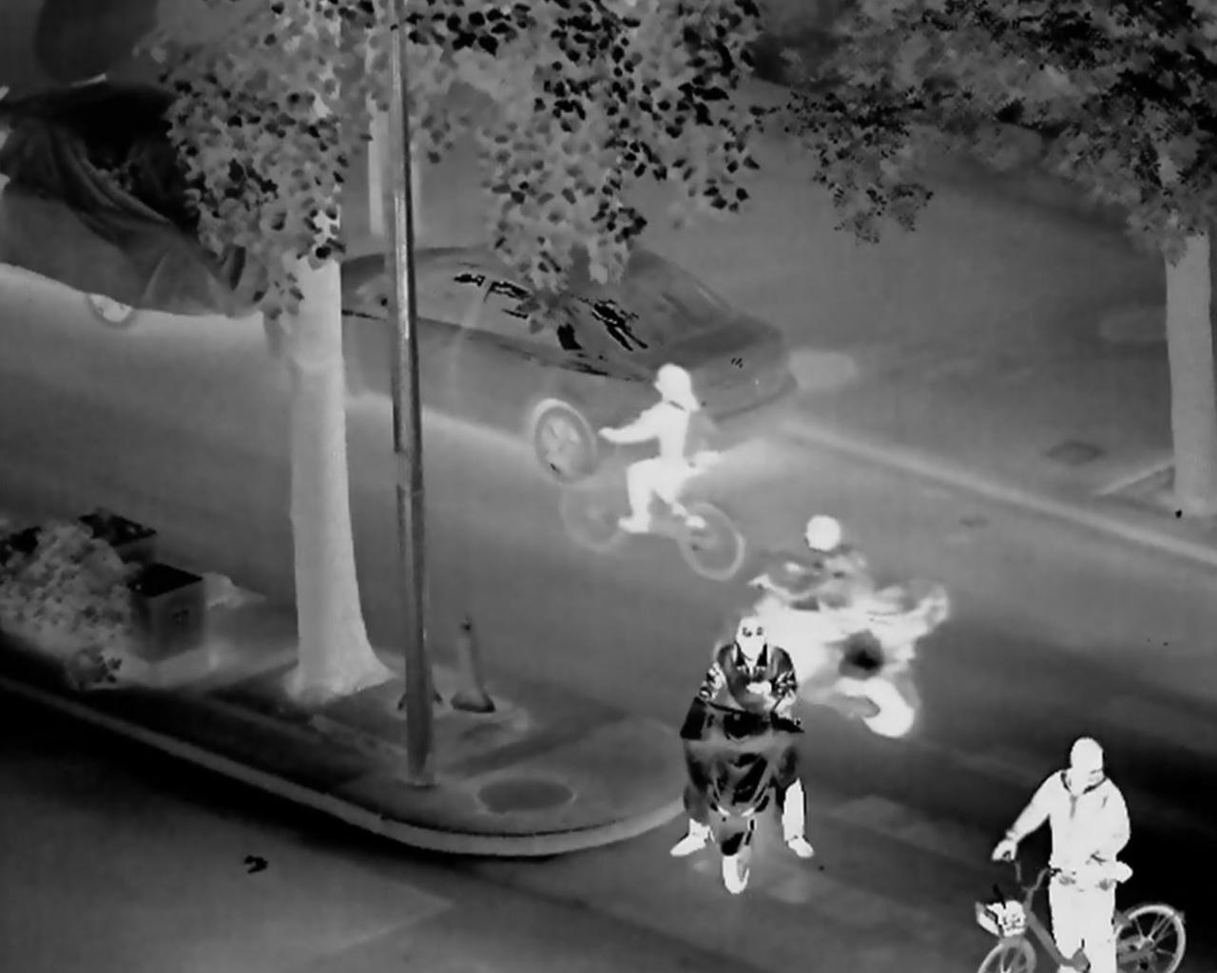person: (672, 612, 818, 903), (999, 741, 1154, 973), (600, 358, 724, 568), (768, 506, 882, 718)
